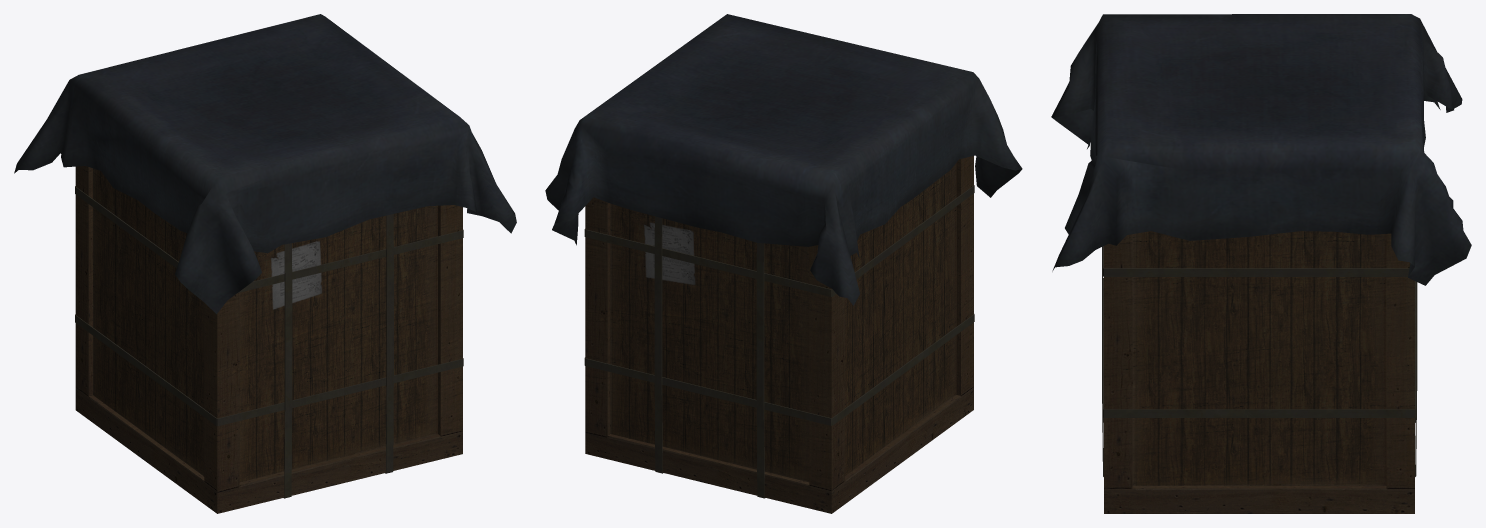
The model's file is wooden_crate_hx_2_2.obj.
The picture shows the model from 3 angles, left to right: view 1: azimuth 30°, elevation 25°; view 2: azimuth 150°, elevation 25°; view 3: azimuth 270°, elevation 25°; orthographic projection. The views are drawn at different scales.
Parts seen in each view (by area): view 1: wooden_crate_hx_2_2; view 2: wooden_crate_hx_2_2; view 3: wooden_crate_hx_2_2.
Part boxes in pixels (bbox=[...]): wooden_crate_hx_2_2: bbox=[14, 14, 516, 513]; wooden_crate_hx_2_2: bbox=[545, 14, 1022, 513]; wooden_crate_hx_2_2: bbox=[1051, 14, 1471, 513].
Size of the model in its own units: 1.89 by 1.84 by 1.89.
